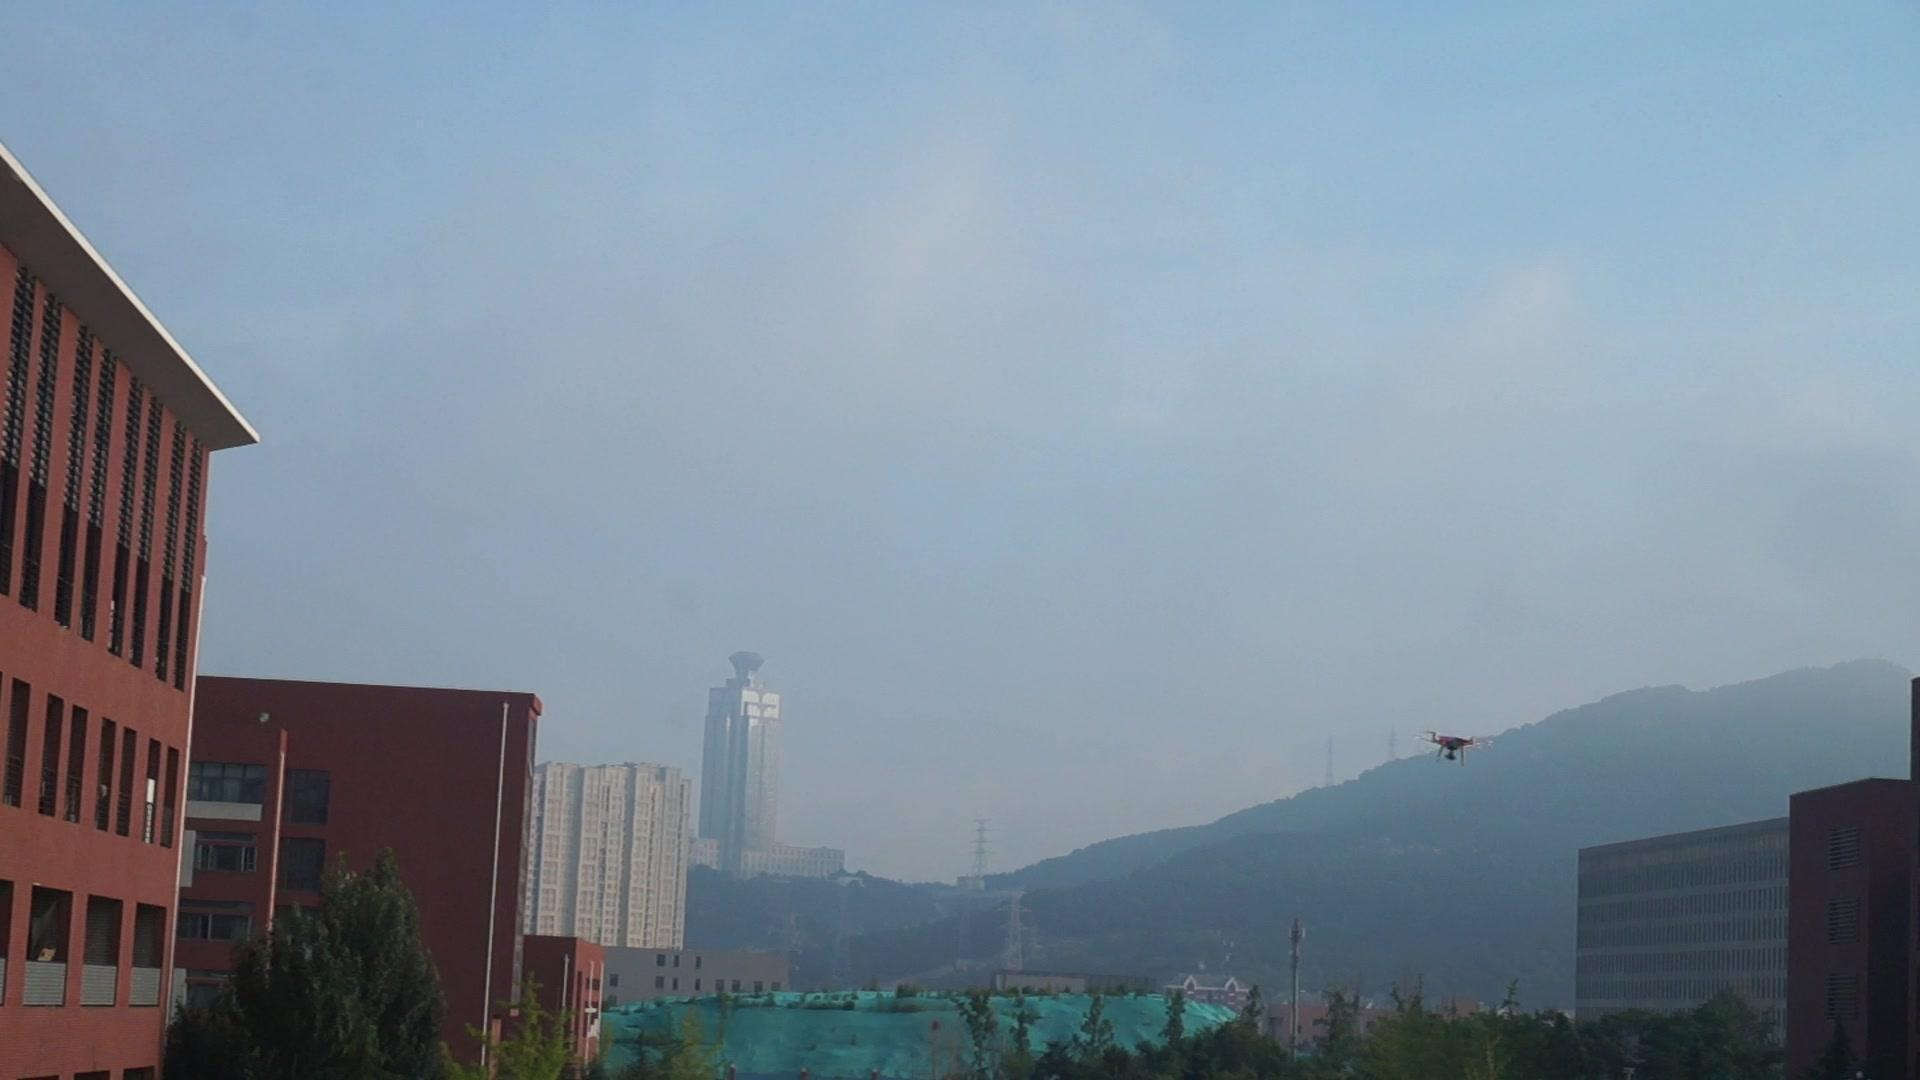UAV: (1415, 732, 1495, 767)
